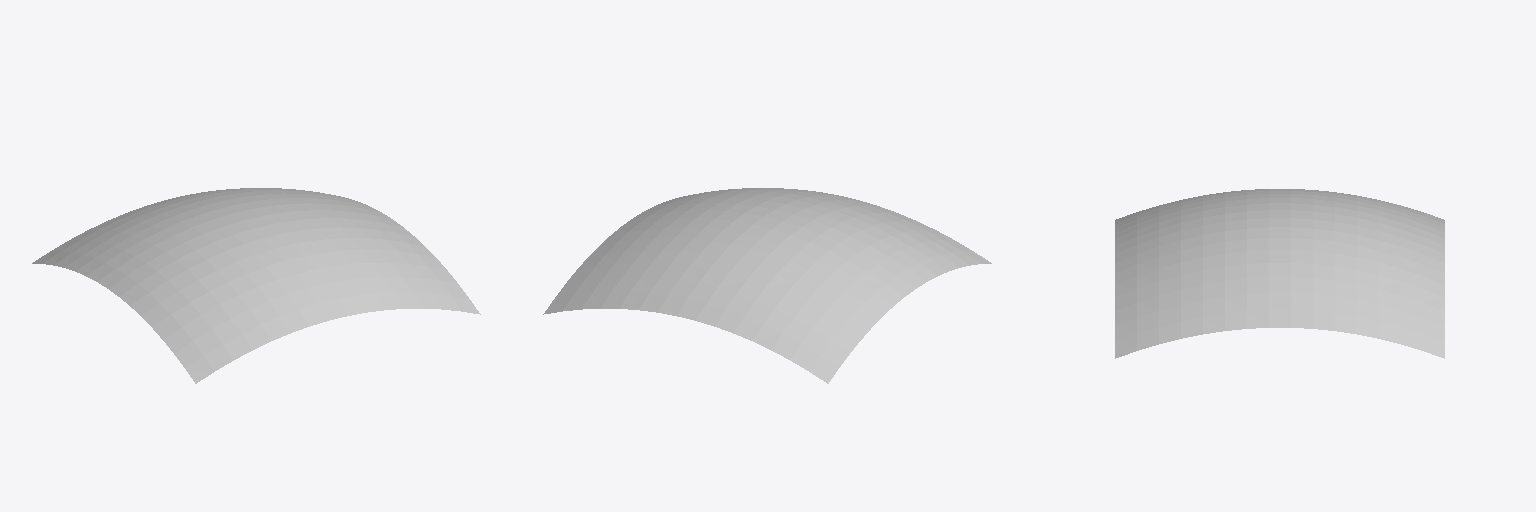
Rendered from vendor_roof.obj.
3 views of the same model, side by side, from view 1: azimuth 30°, elevation 25°; view 2: azimuth 150°, elevation 25°; view 3: azimuth 270°, elevation 25° (orthographic).
Size of the model in its own units: 16 by 3.57 by 16.